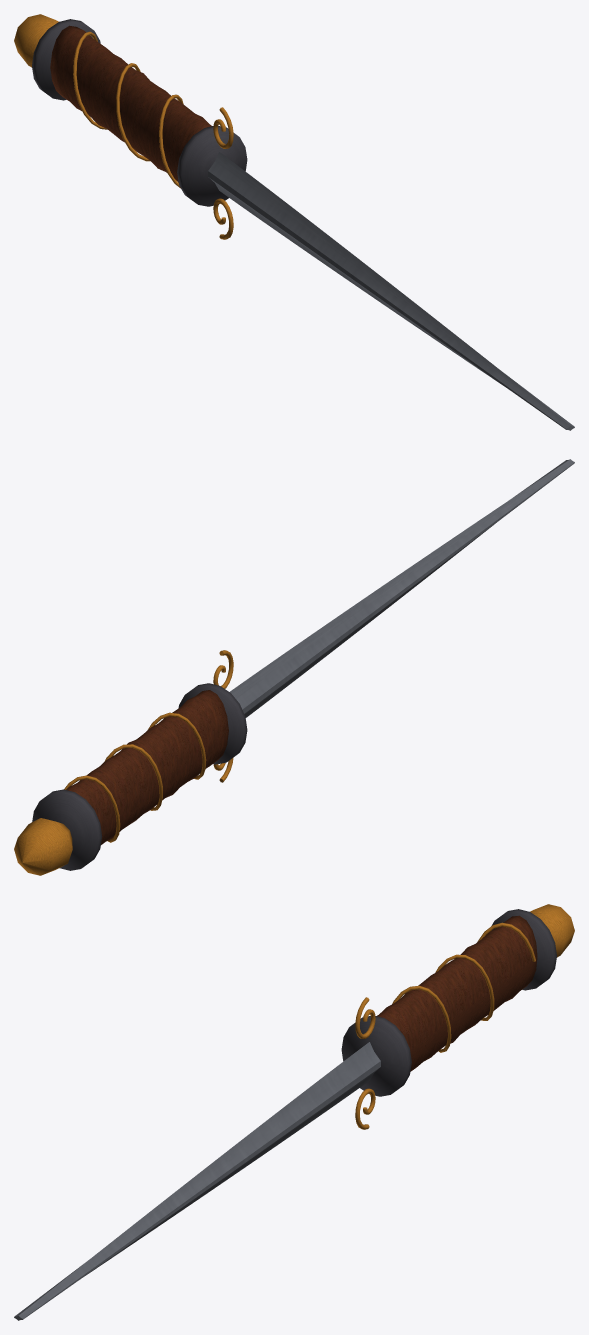
The model's file is weapon_widow_stitch.glb.
3 views of the same model, one above another, from view 1: azimuth 30°, elevation 25°; view 2: azimuth 150°, elevation 25°; view 3: azimuth 330°, elevation 25° (orthographic).
Visible parts, largest first — view 1: widow_stitch; view 2: widow_stitch; view 3: widow_stitch.
Boxes of the visible parts, x1=… form: widow_stitch: x1=14, y1=14, x2=574, y2=430; widow_stitch: x1=14, y1=459, x2=574, y2=875; widow_stitch: x1=14, y1=904, x2=574, y2=1320.
Size of the model in its own units: 0.0324 by 0.0618 by 0.468.
Materials: 4 (4 with a texture image).
